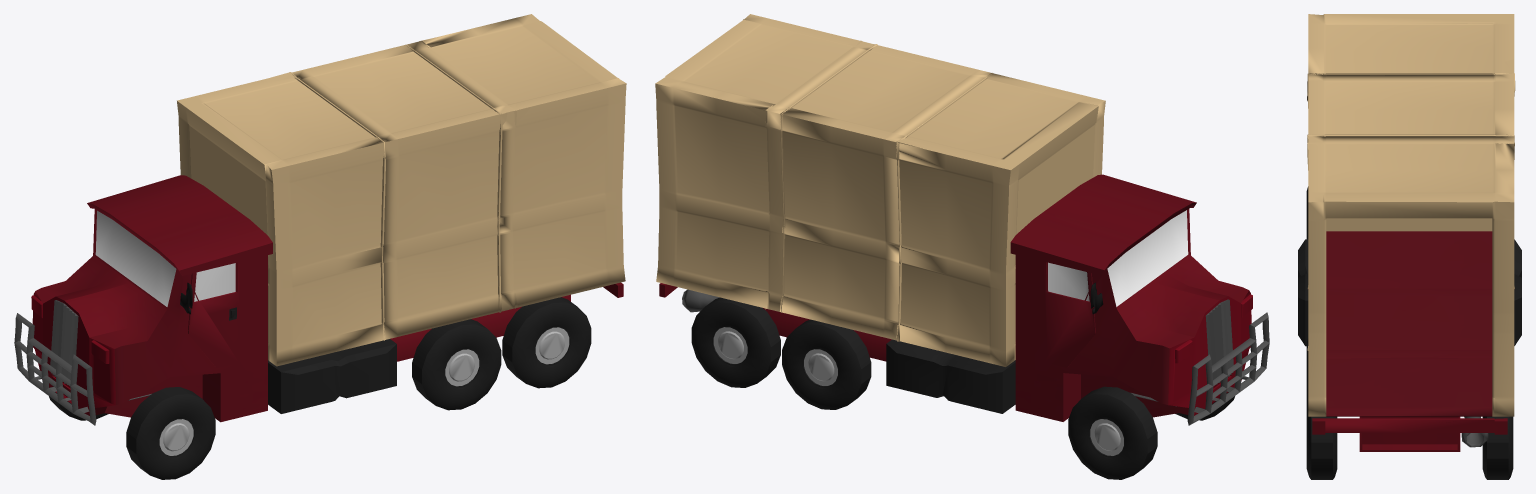
The model's file is LKW.fbx.
3 renders of one model, left to right at view 1: azimuth 30°, elevation 25°; view 2: azimuth 150°, elevation 25°; view 3: azimuth 270°, elevation 25°, orthographic. The views are drawn at different scales.
Parts seen in each view (by area): view 1: LKW; view 2: LKW; view 3: LKW.
Part boxes in pixels (x1=…): LKW: x1=14, y1=14, x2=626, y2=479; LKW: x1=655, y1=14, x2=1269, y2=479; LKW: x1=1298, y1=14, x2=1521, y2=479.
Bounding box in the file's own units: 661 × 342 × 222.
3 materials, 3 textured.
